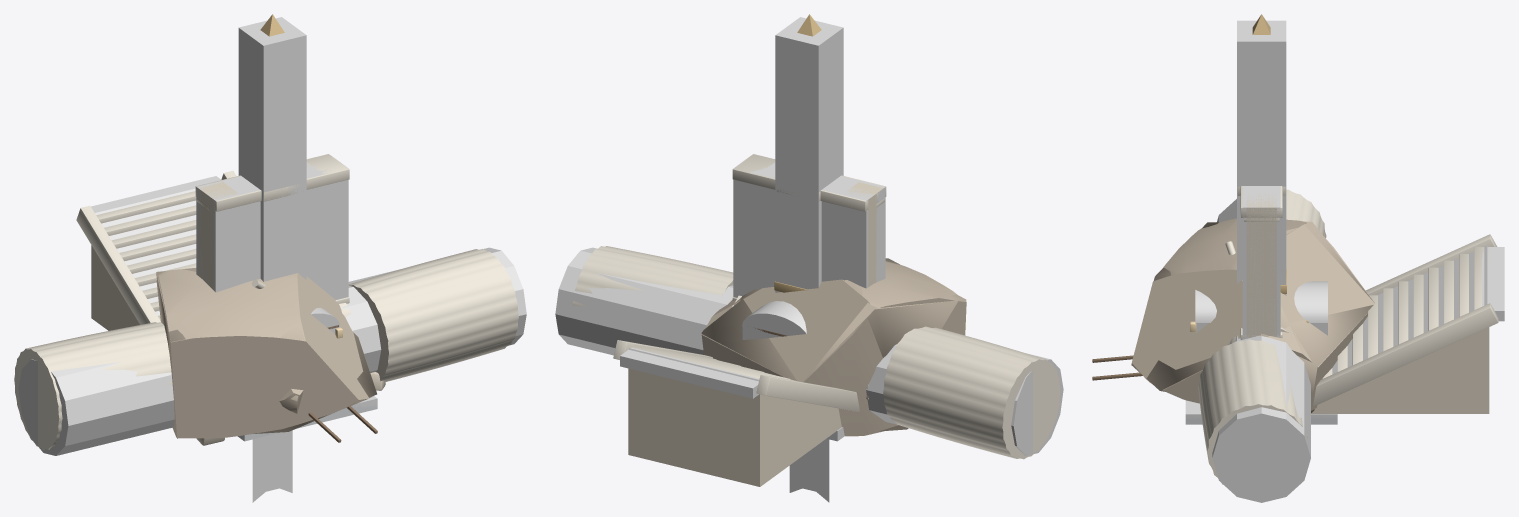
File: watchtower_kit.glb
3 views of the same model, side by side, from view 1: azimuth 30°, elevation 25°; view 2: azimuth 150°, elevation 25°; view 3: azimuth 270°, elevation 25° (orthographic).
Parts seen in each view (by area): view 1: KIT_Rock_D, KIT_FallenGiant, COL_Obelisk_1_BOX, COL_FallenGiant_0_CYL, KIT_Stairs_4w, COL_Wall_4x6_0_BOX, KIT_Wall_4x6, COL_Wall_4x6_Window_0_BOX, COL_Wall_4x6_Door_1_BOX, COL_Stairs_4w_0_BOX, COL_Wall_4x6_Door_2_BOX, KIT_Banner (+6 smaller); view 2: KIT_FallenGiant, KIT_Stairs_4w, COL_Obelisk_1_BOX, KIT_Rock_D, COL_FallenGiant_0_CYL, COL_Rock_D_0_HULL, COL_Wall_4x6_0_BOX, COL_Wall_4x6_Window_1_BOX, COL_Wall_4x6_Door_2_BOX, COL_Stairs_4w_1_BOX, KIT_Wall_4x6, KIT_Banner (+4 smaller); view 3: KIT_Stairs_4w, KIT_Rock_D, COL_FallenGiant_0_CYL, COL_Obelisk_1_BOX, KIT_FallenGiant, KIT_Wall_4x6, COL_Rock_D_0_HULL, COL_Stairs_4w_0_BOX, COL_Wall_4x6_0_BOX, KIT_Carriage, COL_Stairs_4w_1_BOX, COL_Floor_4x4_0_BOX.
Boxes of the visible parts, left/top/right/bottom form: KIT_Rock_D: left=156, top=268, right=372, bottom=438; KIT_FallenGiant: left=14, top=249, right=518, bottom=449; COL_Obelisk_1_BOX: left=238, top=17, right=306, bottom=281; COL_FallenGiant_0_CYL: left=18, top=247, right=526, bottom=455; KIT_Stairs_4w: left=76, top=171, right=236, bottom=330; COL_Wall_4x6_0_BOX: left=196, top=154, right=348, bottom=297; KIT_Wall_4x6: left=195, top=154, right=349, bottom=289; COL_Wall_4x6_Window_0_BOX: left=199, top=184, right=258, bottom=291; COL_Wall_4x6_Door_1_BOX: left=312, top=165, right=348, bottom=299; COL_Stairs_4w_0_BOX: left=95, top=188, right=196, bottom=315; COL_Wall_4x6_Door_2_BOX: left=221, top=162, right=323, bottom=267; KIT_Banner: left=252, top=430, right=292, bottom=502; KIT_FallenGiant: left=572, top=246, right=1060, bottom=459; KIT_Stairs_4w: left=613, top=340, right=859, bottom=486; COL_Obelisk_1_BOX: left=775, top=17, right=843, bottom=292; KIT_Rock_D: left=701, top=261, right=966, bottom=436; COL_FallenGiant_0_CYL: left=555, top=247, right=1063, bottom=455; COL_Rock_D_0_HULL: left=701, top=258, right=966, bottom=431; COL_Wall_4x6_0_BOX: left=733, top=154, right=885, bottom=297; COL_Wall_4x6_Window_1_BOX: left=733, top=161, right=775, bottom=297; COL_Wall_4x6_Door_2_BOX: left=758, top=162, right=860, bottom=269; COL_Stairs_4w_1_BOX: left=620, top=347, right=759, bottom=398; KIT_Wall_4x6: left=732, top=154, right=886, bottom=286; KIT_Banner: left=789, top=438, right=829, bottom=502; KIT_Stairs_4w: left=1311, top=234, right=1498, bottom=413; KIT_Rock_D: left=1132, top=218, right=1374, bottom=410; COL_FallenGiant_0_CYL: left=1212, top=199, right=1310, bottom=502; COL_Obelisk_1_BOX: left=1237, top=20, right=1286, bottom=295; KIT_FallenGiant: left=1198, top=189, right=1326, bottom=484; KIT_Wall_4x6: left=1240, top=186, right=1282, bottom=337; COL_Rock_D_0_HULL: left=1131, top=221, right=1374, bottom=412; COL_Stairs_4w_0_BOX: left=1332, top=246, right=1487, bottom=374; COL_Wall_4x6_0_BOX: left=1242, top=192, right=1280, bottom=339; KIT_Carriage: left=1092, top=281, right=1327, bottom=380; COL_Stairs_4w_1_BOX: left=1482, top=247, right=1504, bottom=321; COL_Floor_4x4_0_BOX: left=1185, top=400, right=1337, bottom=424.
Size of what is drawn, in the model's own units: 13.87 by 13.9 by 10.86.
